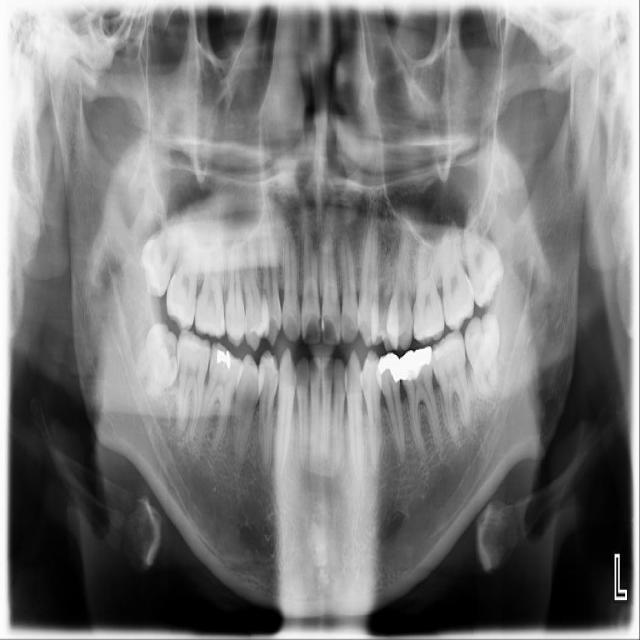3M ESPE Implant: (130, 203, 190, 300)
52: (206, 341, 246, 393), (397, 345, 434, 397), (320, 293, 342, 346), (376, 352, 400, 398)
73: (615, 603, 630, 617)
BioHorizons Implant: (431, 208, 478, 333)
BioLife Implant: (460, 202, 508, 310)
Biomet 3i Implant: (464, 313, 500, 397)
Blue Sky Bio Implant: (428, 329, 472, 443)
Caries: (162, 210, 206, 335)
Implant: (169, 329, 213, 439)
Keystone Dental Implant: (123, 318, 195, 406)
